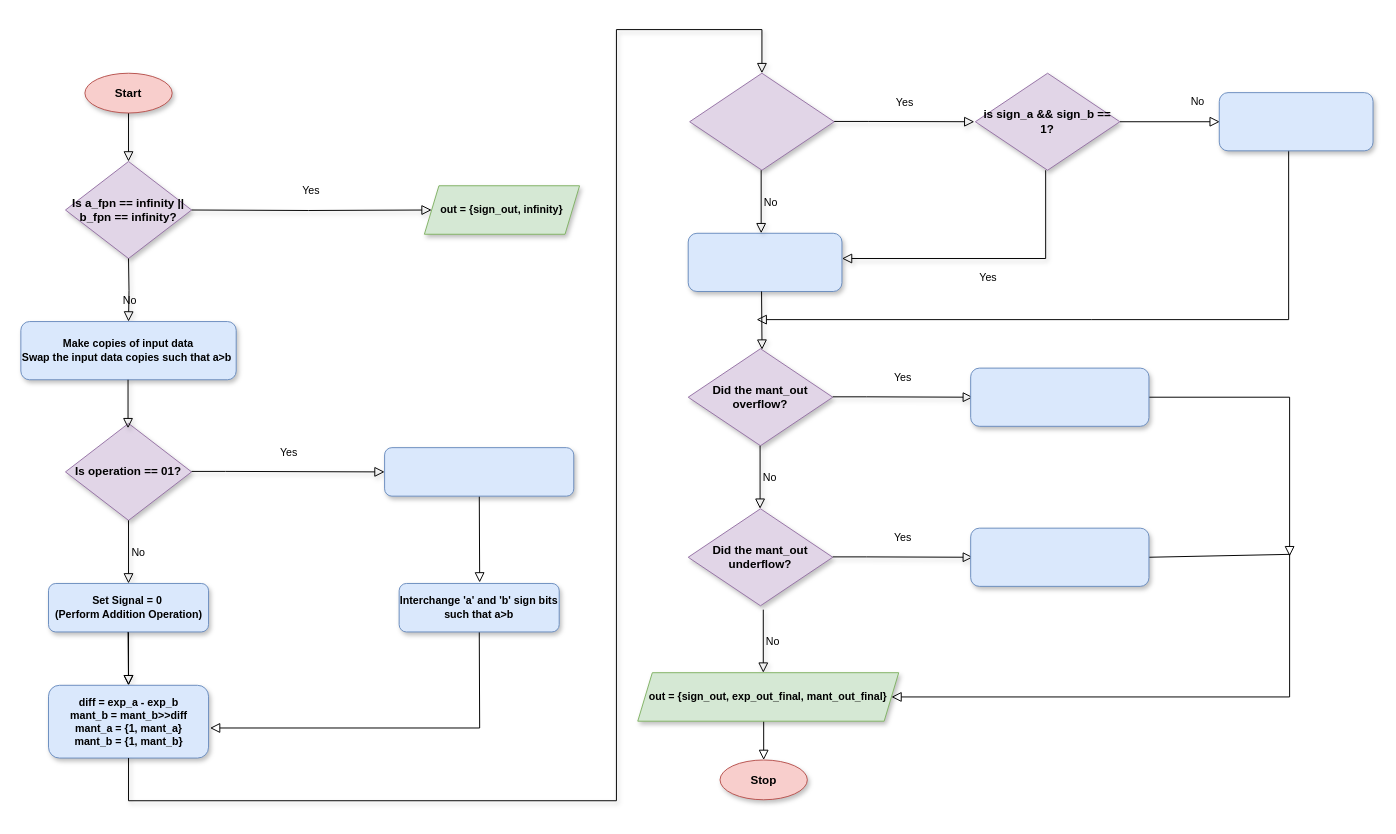
Some shapes in this 1396 by 834 pixel diagram are drawn without their labels. Here are the shapes that lost their labels. From the top down, the centre of each, then its label:
(762,122): is sign_a || sign_b == 1?
(1296,123): mant_out = mant_a - mant_b
(765,263): mant_out = mant_a + mant_b
(1060,398): mant_out_final = mant_out >> 1 exp_out_final = exp_out + 1
(480,473): Set Signal = 1 (Perform Subtraction Operation)
(1060,558): mant_out_final = mant_out << 1 exp_out_final = exp_out - 1
